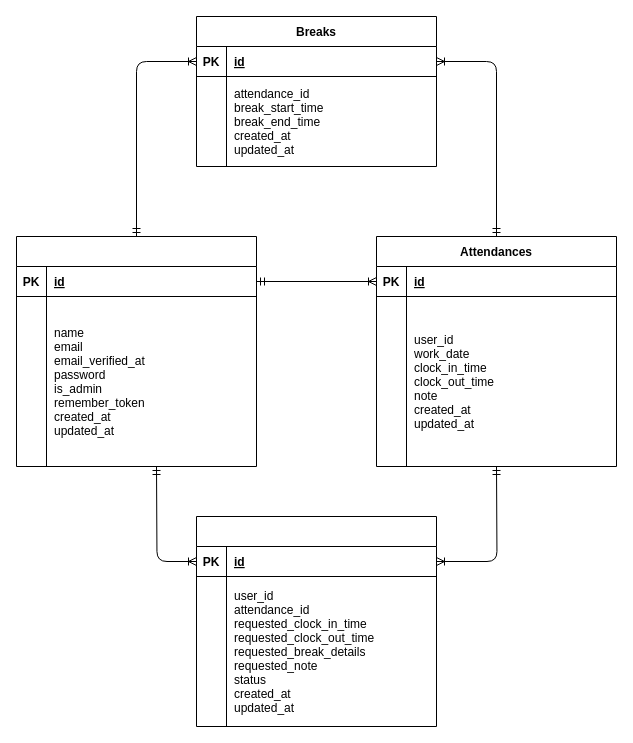
Some shapes in this 633 by 743 pixel diagram are drawn without their labels. Here are the shapes that lost their labels. From the top down, the box of each, then its label:
(16, 236, 256, 466): Users
(196, 516, 436, 726): Attendance_correction_requests
